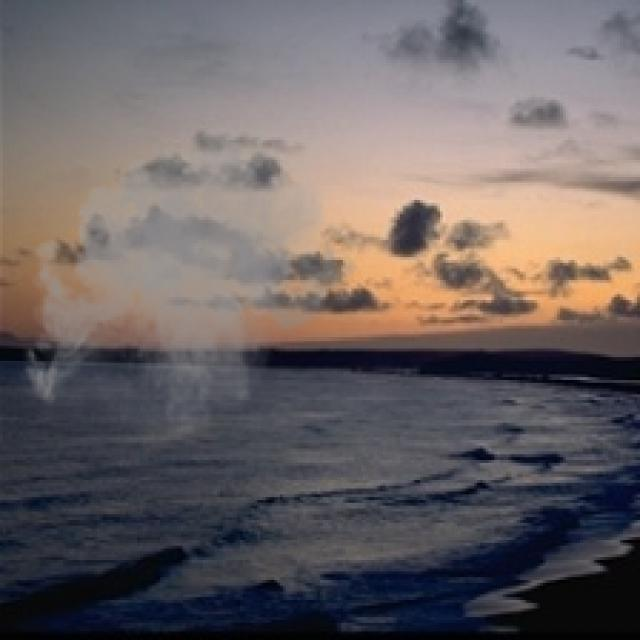Smoke: (14, 114, 360, 460)
